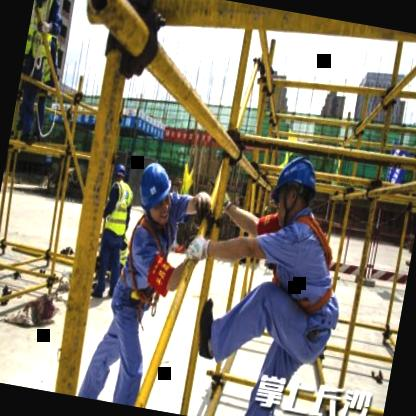helmet: (263, 146, 326, 229), (130, 158, 178, 227), (109, 154, 129, 190)
